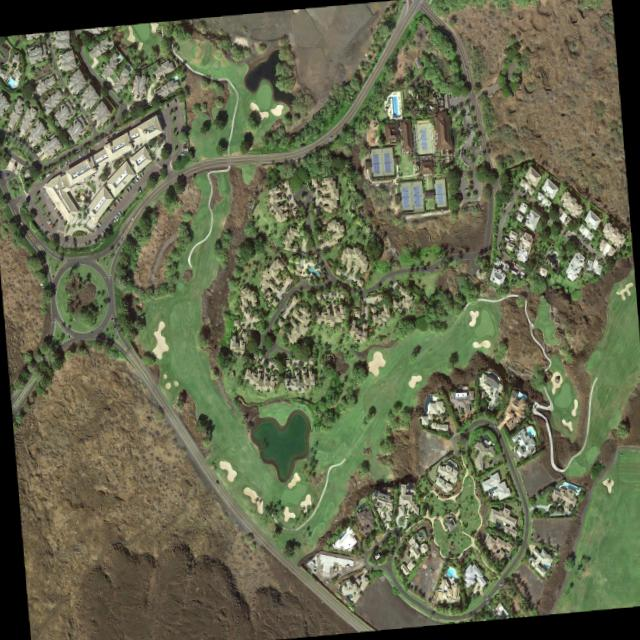small-vehicle: (21, 228, 26, 235), (112, 214, 117, 221), (44, 171, 49, 177), (274, 287, 279, 293), (37, 223, 42, 228), (326, 135, 331, 140), (124, 186, 128, 192), (504, 549, 508, 554), (87, 330, 92, 334), (492, 423, 496, 428), (106, 207, 110, 212), (116, 210, 120, 215), (114, 213, 118, 218), (129, 215, 133, 220), (107, 223, 111, 228), (101, 229, 105, 234), (99, 230, 103, 235), (94, 223, 98, 228), (453, 92, 456, 98), (137, 186, 140, 192), (427, 567, 430, 573), (214, 478, 217, 484), (468, 125, 472, 129), (56, 212, 60, 216), (58, 215, 62, 219), (40, 212, 44, 216), (133, 177, 137, 181), (126, 185, 130, 189), (114, 129, 118, 133), (498, 248, 501, 253), (484, 595, 487, 600), (505, 211, 508, 216), (431, 593, 434, 598), (148, 101, 151, 106), (137, 173, 140, 178), (50, 201, 53, 206), (46, 219, 49, 224), (47, 233, 50, 238), (117, 195, 120, 200), (97, 221, 100, 226), (105, 224, 108, 229), (58, 254, 63, 257), (468, 182, 472, 185), (498, 582, 502, 585), (429, 601, 431, 607), (181, 142, 185, 145), (139, 171, 142, 175), (55, 210, 58, 214), (47, 222, 50, 226), (44, 231, 47, 235), (41, 203, 44, 207), (130, 180, 133, 184), (113, 201, 116, 205), (87, 240, 89, 246), (73, 241, 75, 247), (448, 104, 450, 109), (450, 104, 452, 109), (464, 65, 466, 70), (447, 93, 449, 98), (64, 160, 66, 165), (87, 147, 89, 152), (84, 149, 86, 154), (473, 167, 476, 170), (422, 268, 425, 271), (182, 140, 185, 143), (182, 144, 185, 147), (468, 123, 471, 126), (41, 188, 44, 191), (428, 571, 431, 574), (115, 198, 118, 201), (96, 140, 99, 143), (496, 244, 498, 248), (432, 267, 436, 269), (463, 188, 467, 190), (455, 190, 459, 192), (467, 174, 471, 176), (430, 598, 432, 602), (173, 97, 175, 101), (57, 164, 59, 168), (92, 239, 94, 243), (83, 241, 85, 245), (49, 37, 53, 39), (78, 153, 79, 157), (80, 152, 81, 156), (0, 170, 1, 172)
